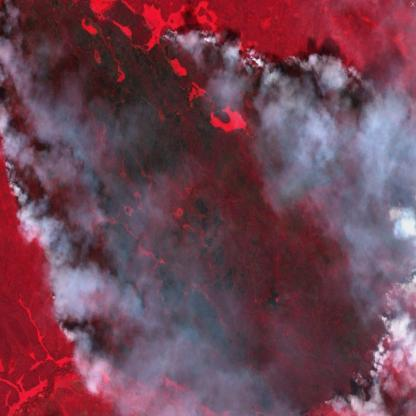fire: (331, 261, 416, 416), (198, 27, 351, 84), (46, 276, 78, 344), (162, 19, 183, 59), (1, 154, 15, 184)
